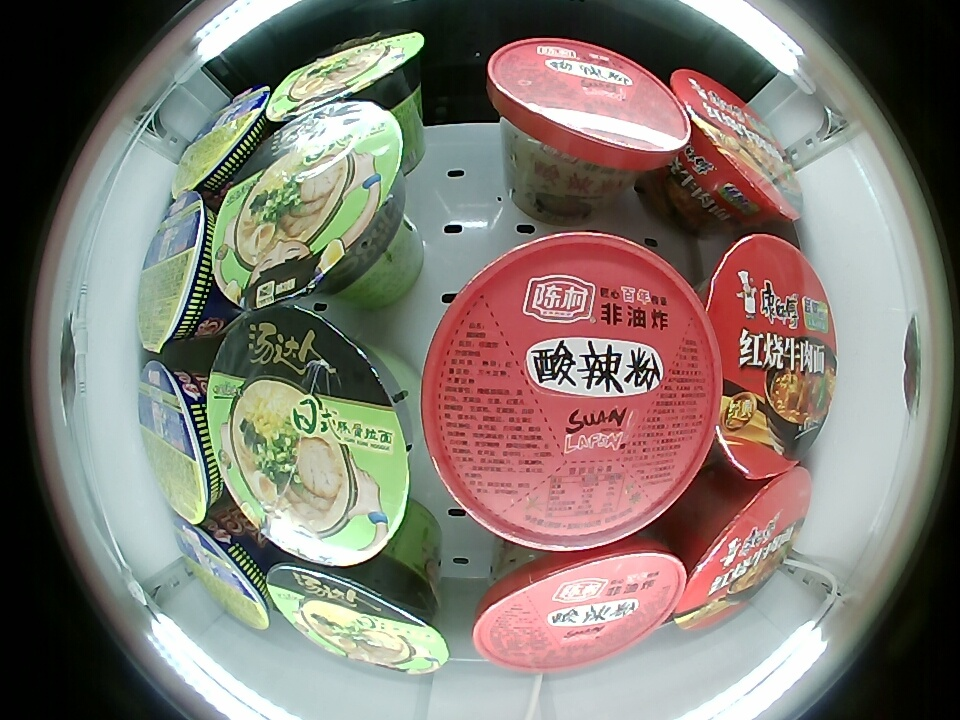heweidao: (137, 360, 227, 525), (135, 192, 216, 356), (173, 80, 272, 200), (174, 514, 273, 630)
hongshaoniurou: (702, 233, 837, 479), (674, 466, 812, 638), (668, 69, 803, 222)
suanlafen: (423, 232, 723, 553), (472, 533, 688, 673), (486, 37, 690, 173)
tangdaren: (207, 305, 414, 567), (212, 100, 406, 311), (266, 559, 451, 674), (269, 28, 424, 124)
